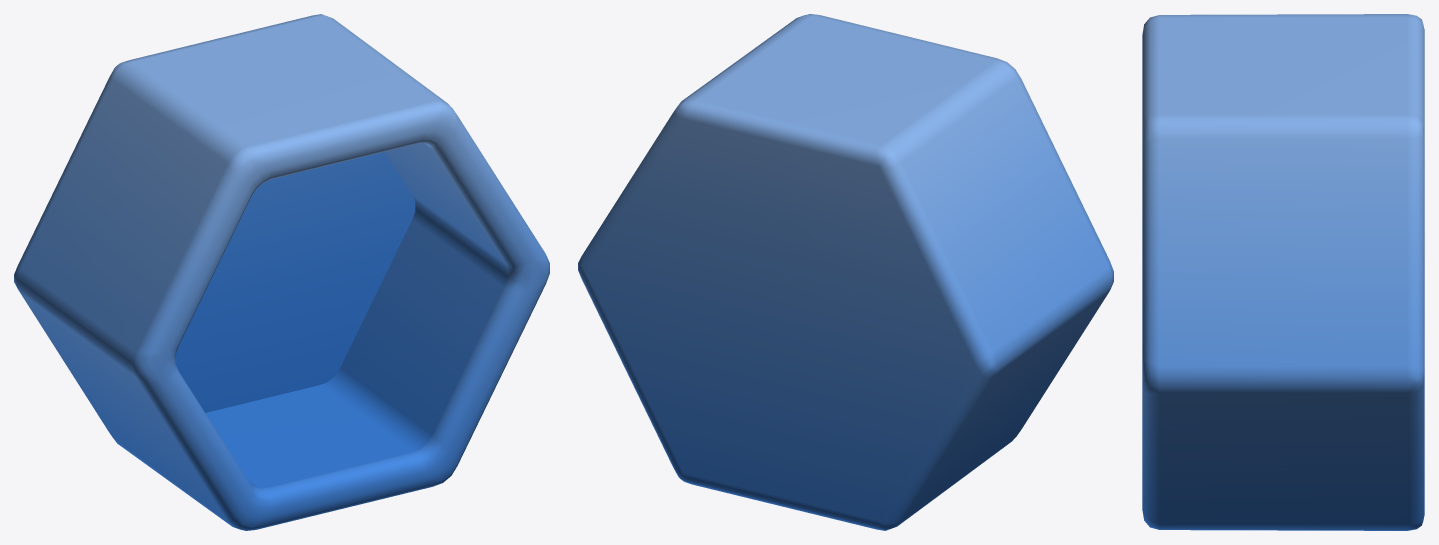
The model's file is Shelf_09.glb.
The picture shows the model from 3 angles, left to right: view 1: azimuth 30°, elevation 25°; view 2: azimuth 150°, elevation 25°; view 3: azimuth 270°, elevation 25°; orthographic projection. The views are drawn at different scales.
Visible parts, largest first — view 1: Shelf_09; view 2: Shelf_09; view 3: Shelf_09.
Boxes of the visible parts, x1,y1,x2,y2 form: Shelf_09: (14,14,549,530); Shelf_09: (578,14,1113,530); Shelf_09: (1142,14,1424,530).
Size of the model in its own units: 0.5986 by 0.5264 by 0.3264.
1 material, 1 textured.
